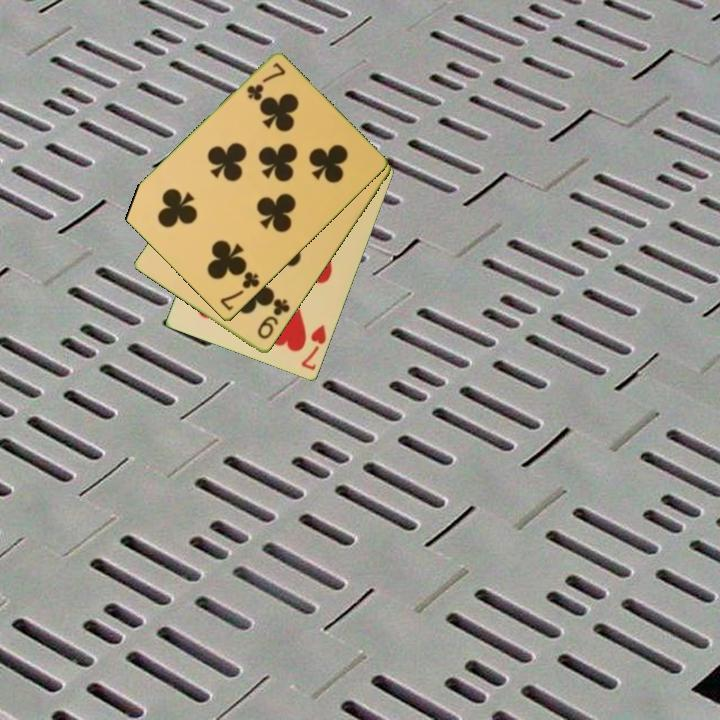7c: (217, 268, 263, 314), (243, 59, 289, 104)
7h: (298, 321, 329, 373)
9c: (254, 295, 293, 343)
